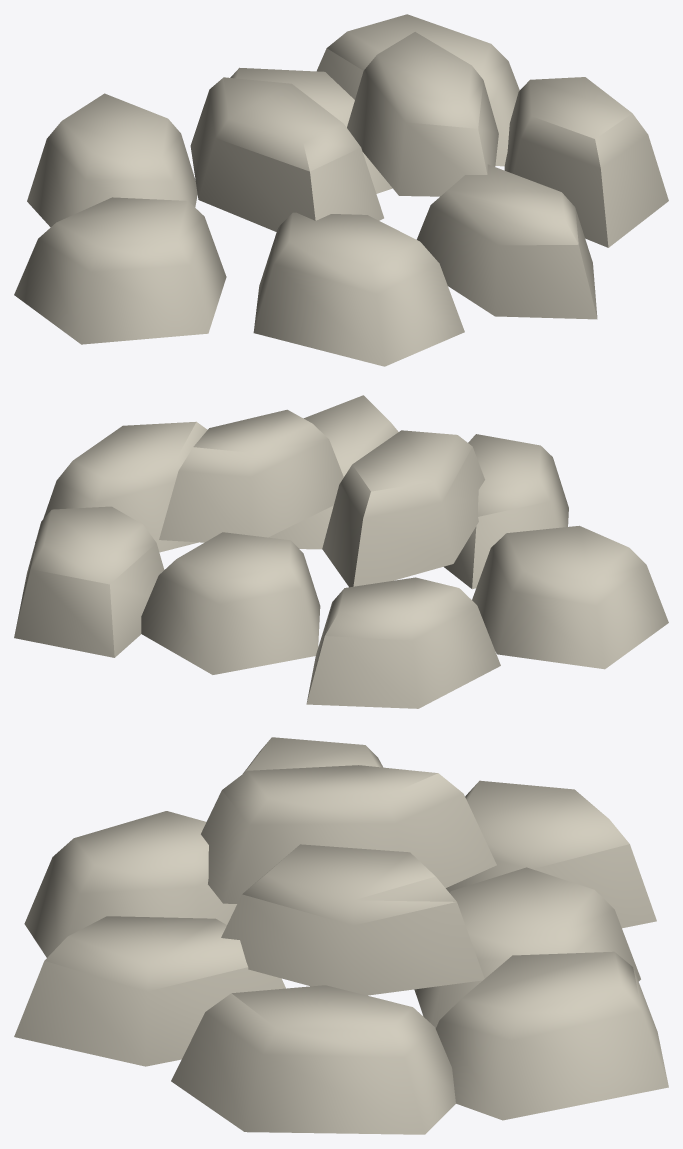
Rendered from item_rm_silver_c.obj.
3 views of the same model, one above another, from view 1: azimuth 30°, elevation 25°; view 2: azimuth 150°, elevation 25°; view 3: azimuth 270°, elevation 25° (orthographic). The views are drawn at different scales.
Visible parts, largest first — view 1: ingot_1, ingot_2, ingot_8, ingot_3, ingot_4, ingot_9, ingot_5, ingot_7, ingot_6; view 2: ingot_1, ingot_6, ingot_5, ingot_8, ingot_9, ingot_7, ingot_4, ingot_2, ingot_3; view 3: ingot_4, ingot_7, ingot_9, ingot_3, ingot_8, ingot_2, ingot_5, ingot_6, ingot_1.
Boxes of the visible parts, x1,y1,x2,y2 form: ingot_1: (14, 197, 226, 344); ingot_2: (253, 212, 464, 366); ingot_8: (190, 77, 383, 231); ingot_3: (416, 164, 597, 319); ingot_4: (504, 77, 668, 247); ingot_9: (347, 32, 498, 196); ingot_5: (27, 93, 197, 227); ingot_7: (317, 14, 519, 166); ingot_6: (230, 67, 392, 193); ingot_1: (472, 525, 668, 669); ingot_6: (141, 532, 320, 674); ingot_5: (306, 577, 500, 708); ingot_8: (322, 430, 484, 587); ingot_9: (159, 409, 343, 542); ingot_7: (14, 506, 164, 657); ingot_4: (35, 421, 207, 552); ingot_2: (444, 434, 568, 589); ingot_3: (268, 395, 398, 549); ingot_4: (171, 985, 455, 1134); ingot_7: (436, 951, 668, 1120); ingot_9: (221, 844, 484, 995); ingot_3: (14, 916, 285, 1066); ingot_8: (201, 765, 496, 903); ingot_2: (24, 811, 236, 957); ingot_5: (446, 780, 656, 928); ingot_6: (414, 867, 640, 1028); ingot_1: (243, 737, 383, 773).
Bounding box in the file's own units: 0.8852 × 0.211 × 0.7603.
